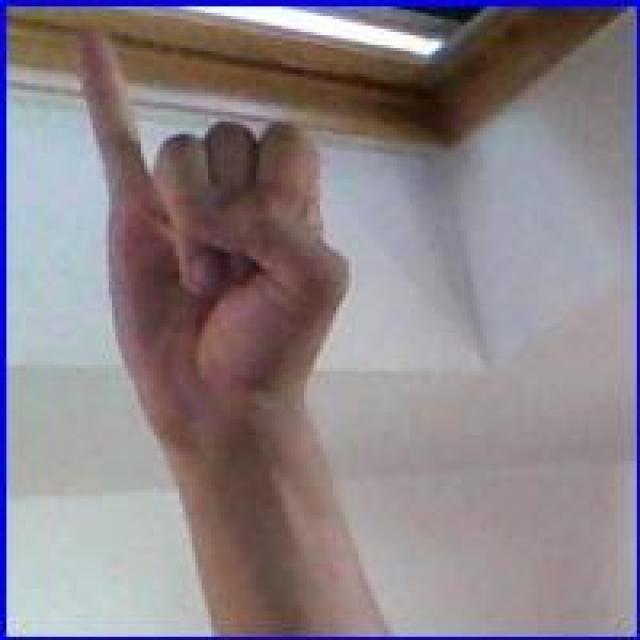I: (72, 26, 354, 438)
